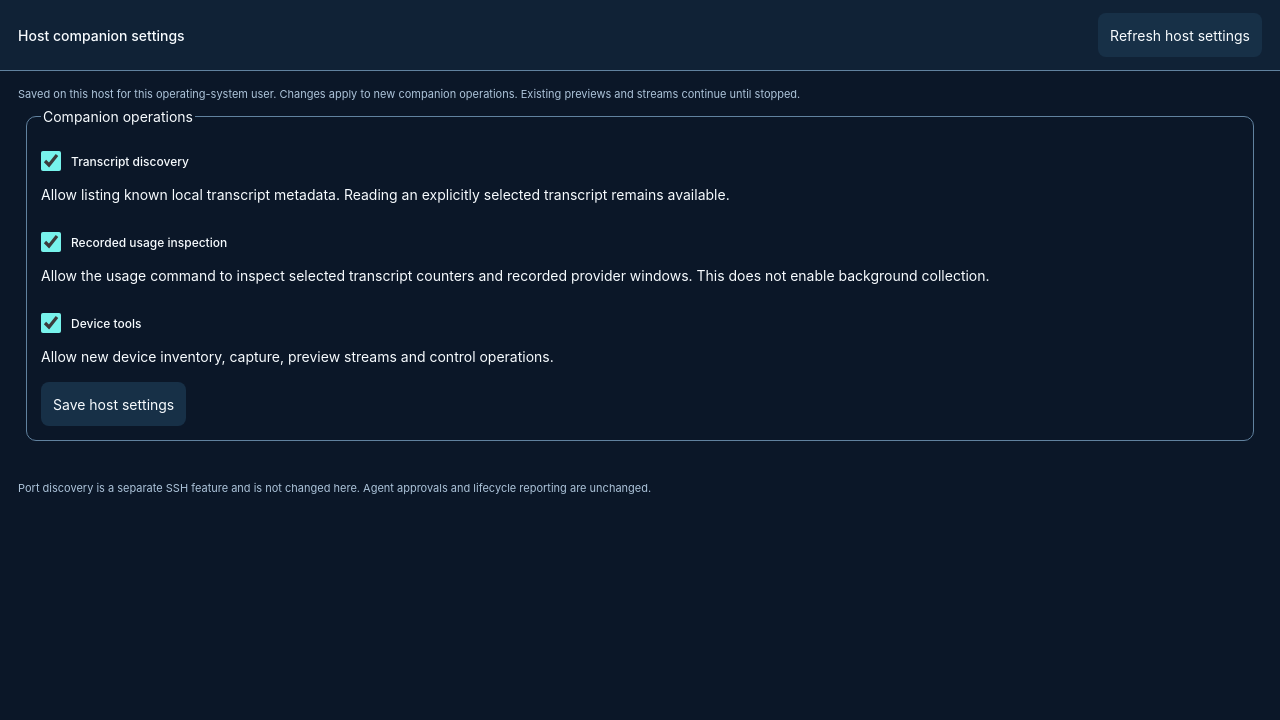
Scenario: reports update conflicts and keeps settings unacknowledged until refreshed
The image size is (1280, 720).
Click the checkbox labelled "Device tools" at (51, 323), box [41,313,61,333]
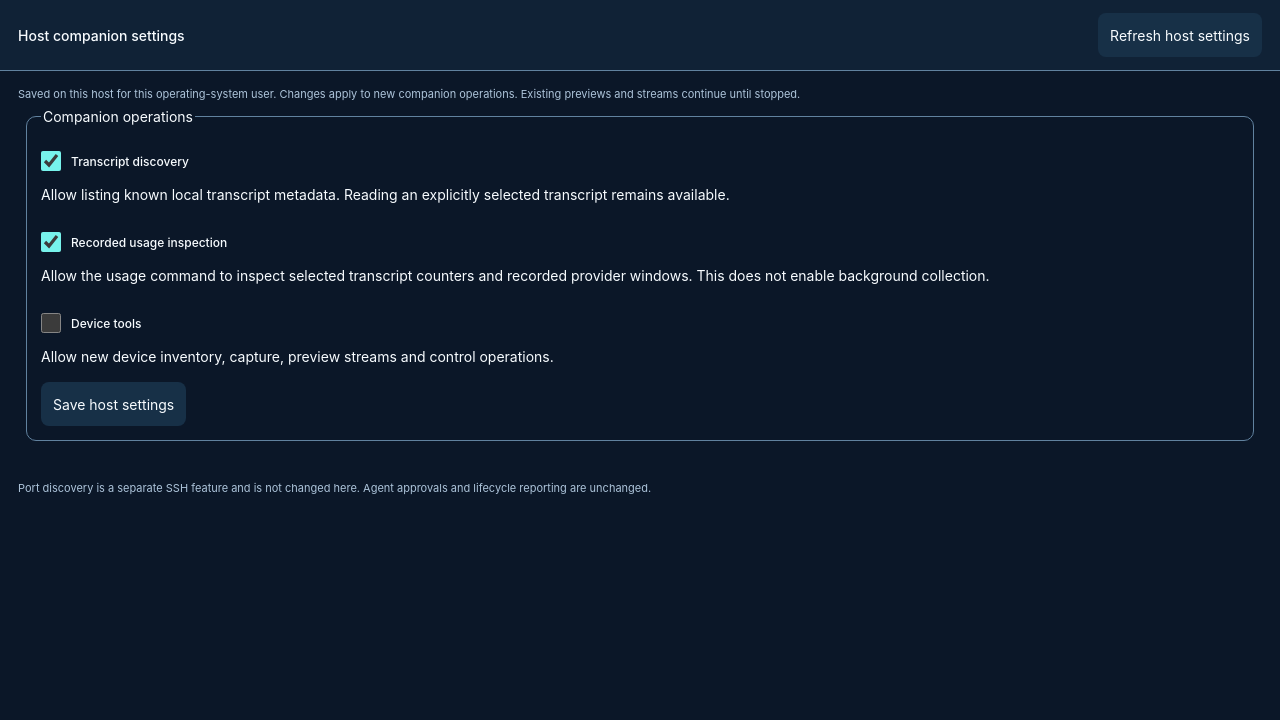
Click the button "Save host settings" at (114, 404), box [41,382,186,426]
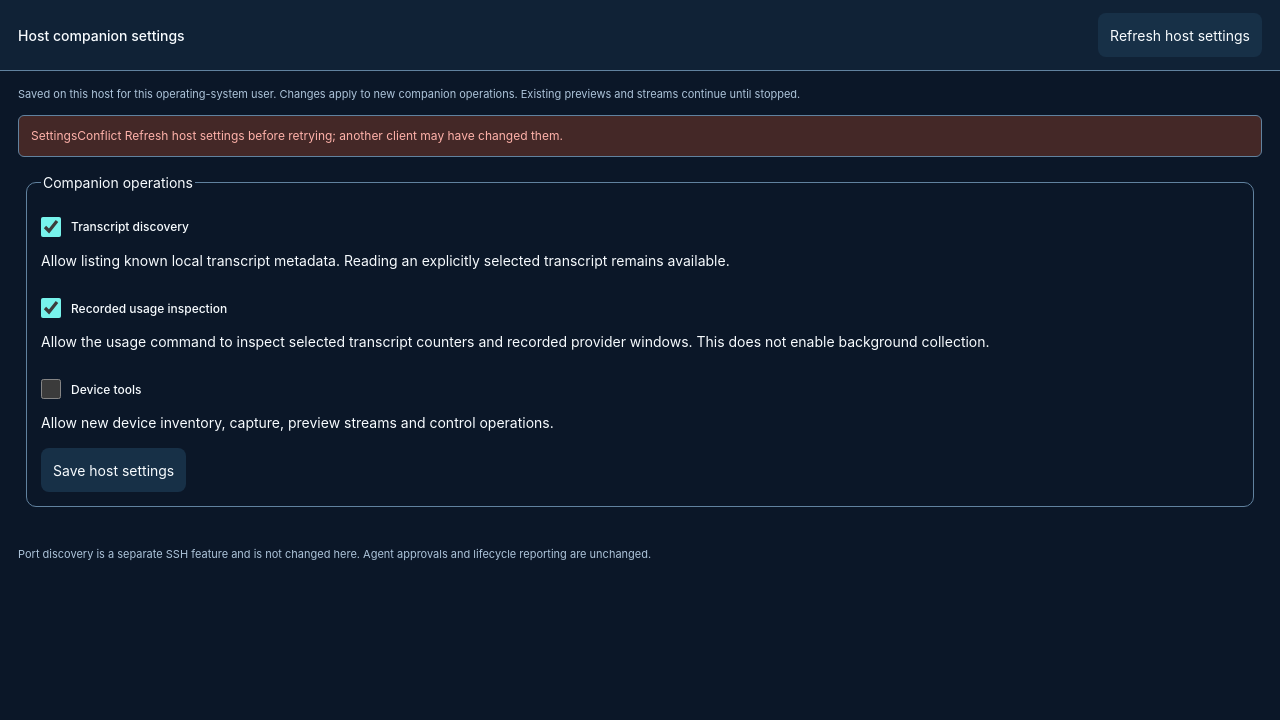
Check: the text "Refresh host settings before retrying" is shown, box [31,128,563,143]
